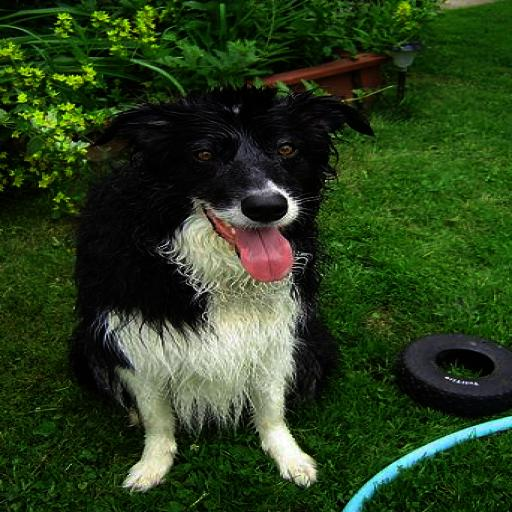dog_face: (107, 94, 420, 268)
